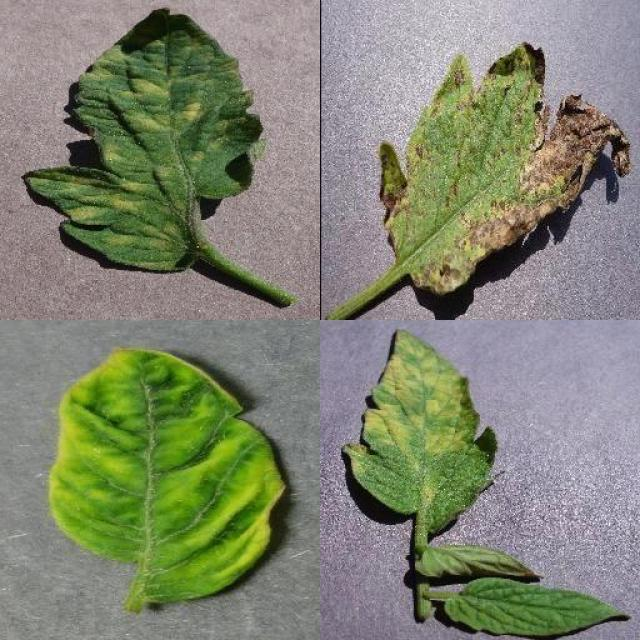Healthy: (447, 579, 632, 640)
Septoria: (379, 43, 631, 295)
